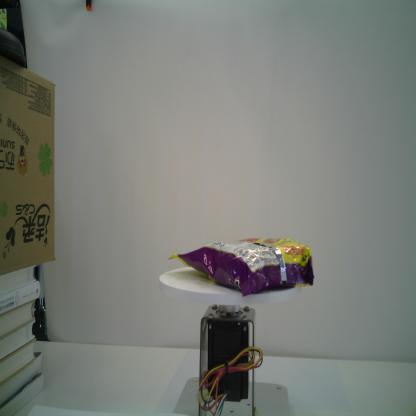Instant Noodles: (166, 237, 314, 299)
